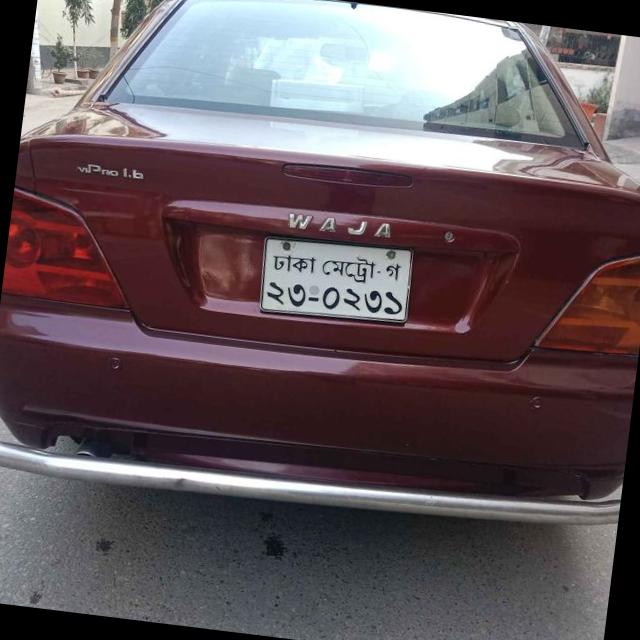Number-Plate: (256, 235, 418, 326)
